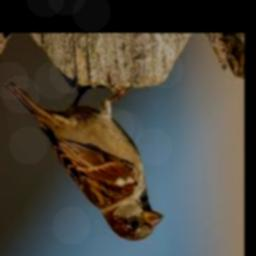Sparrow: (5, 82, 164, 241)
